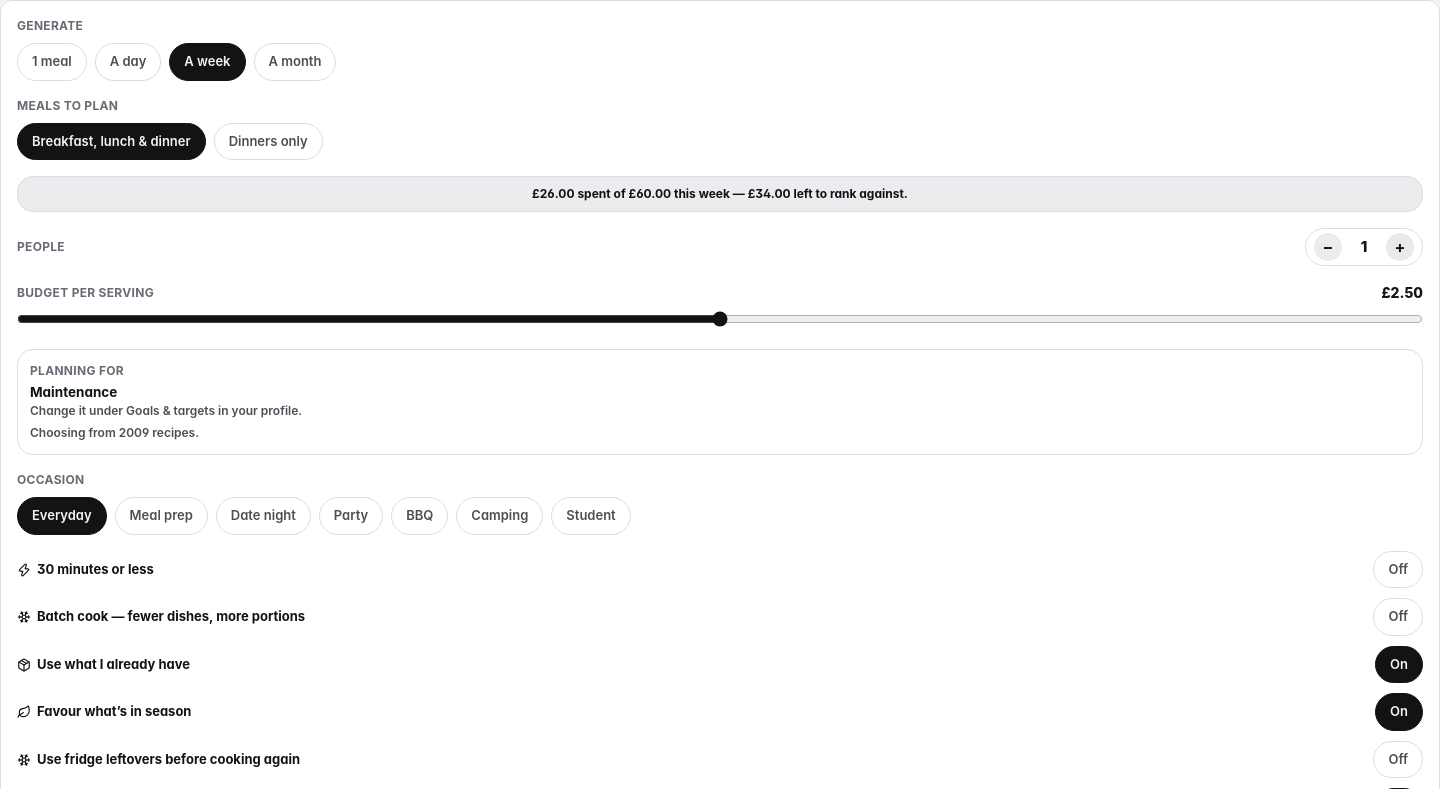
Test: the spent/left headroom above Generate › scales the line to the month window and its spend
Click the button "A month" at (295, 62), box top-left (254, 43), bottom-right (336, 80)
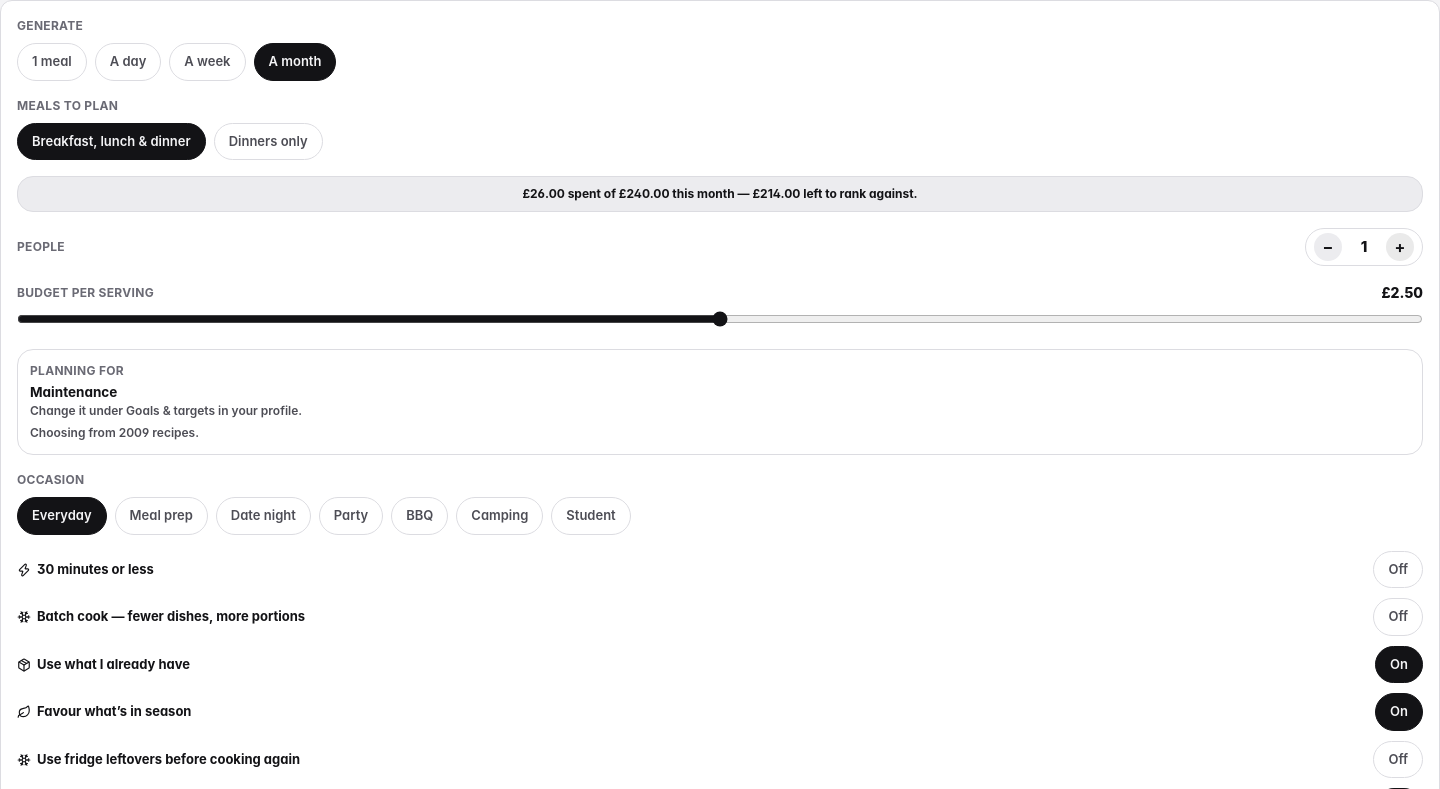
expect the text "£26.00 spent of £240.00 this month — £214.00 left to rank against." is shown: met, box top-left (17, 176), bottom-right (1423, 212)
